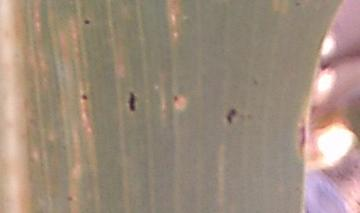tarspot: (128, 90, 137, 112), (227, 106, 237, 122), (251, 76, 260, 87), (65, 193, 73, 203), (79, 93, 89, 101), (81, 18, 92, 25), (171, 93, 179, 102), (293, 1, 301, 8)
